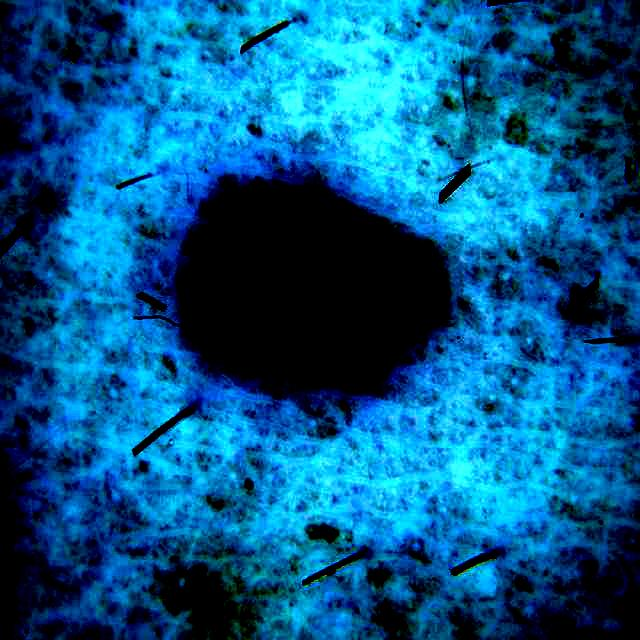MEL: (182, 182, 447, 374)
